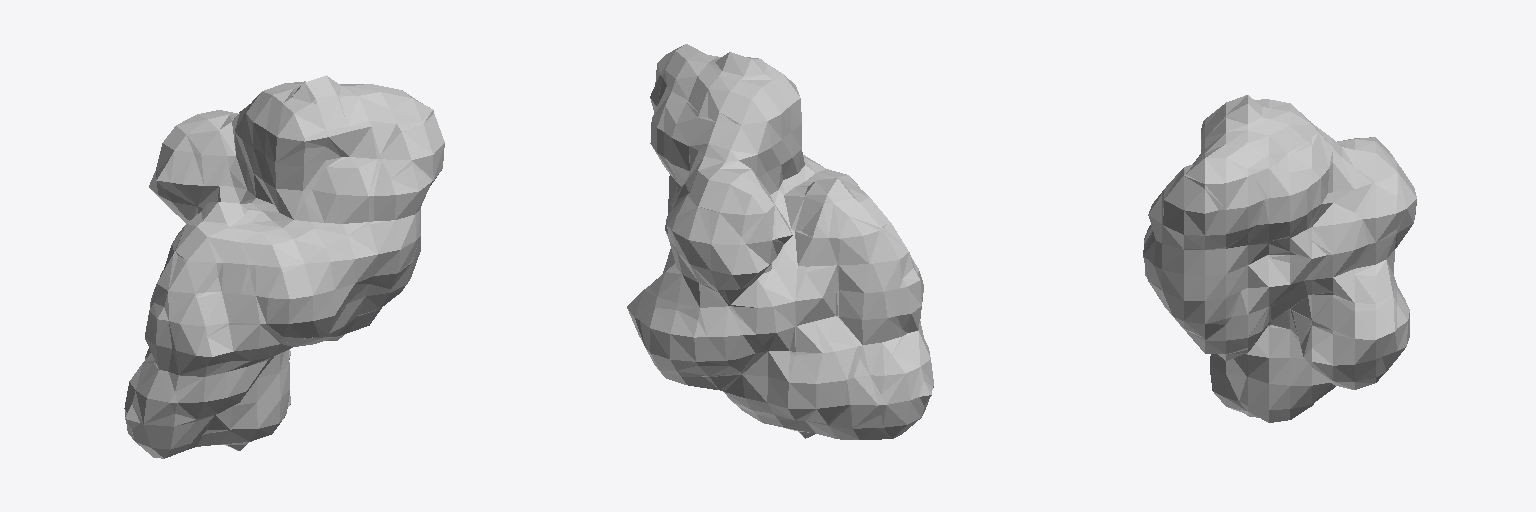
File: 1efu_cms.obj
The picture shows the model from 3 angles: view 1: azimuth 30°, elevation 25°; view 2: azimuth 150°, elevation 25°; view 3: azimuth 270°, elevation 25°; orthographic projection.
Bounding box in the file's own units: 113 × 131 × 90.67.